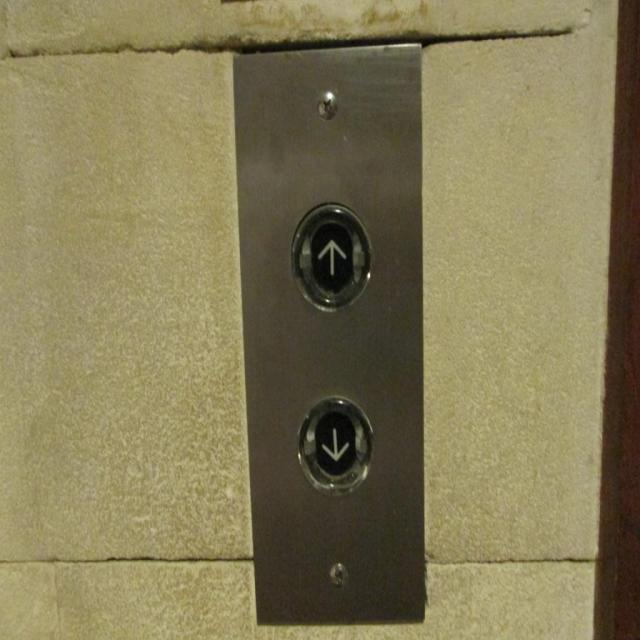down: (296, 394, 375, 497)
up: (289, 200, 374, 312)
